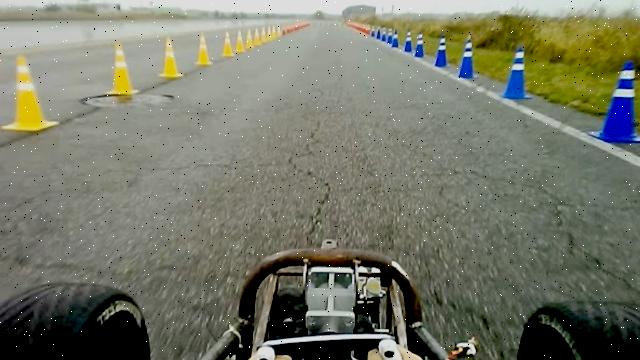blue cone: (588, 59, 640, 143), (500, 46, 533, 100), (458, 34, 478, 79), (434, 35, 448, 68), (414, 32, 426, 57)
yellow cone: (1, 55, 59, 132), (105, 42, 140, 96), (159, 36, 184, 78), (195, 31, 213, 66), (222, 31, 235, 57)
